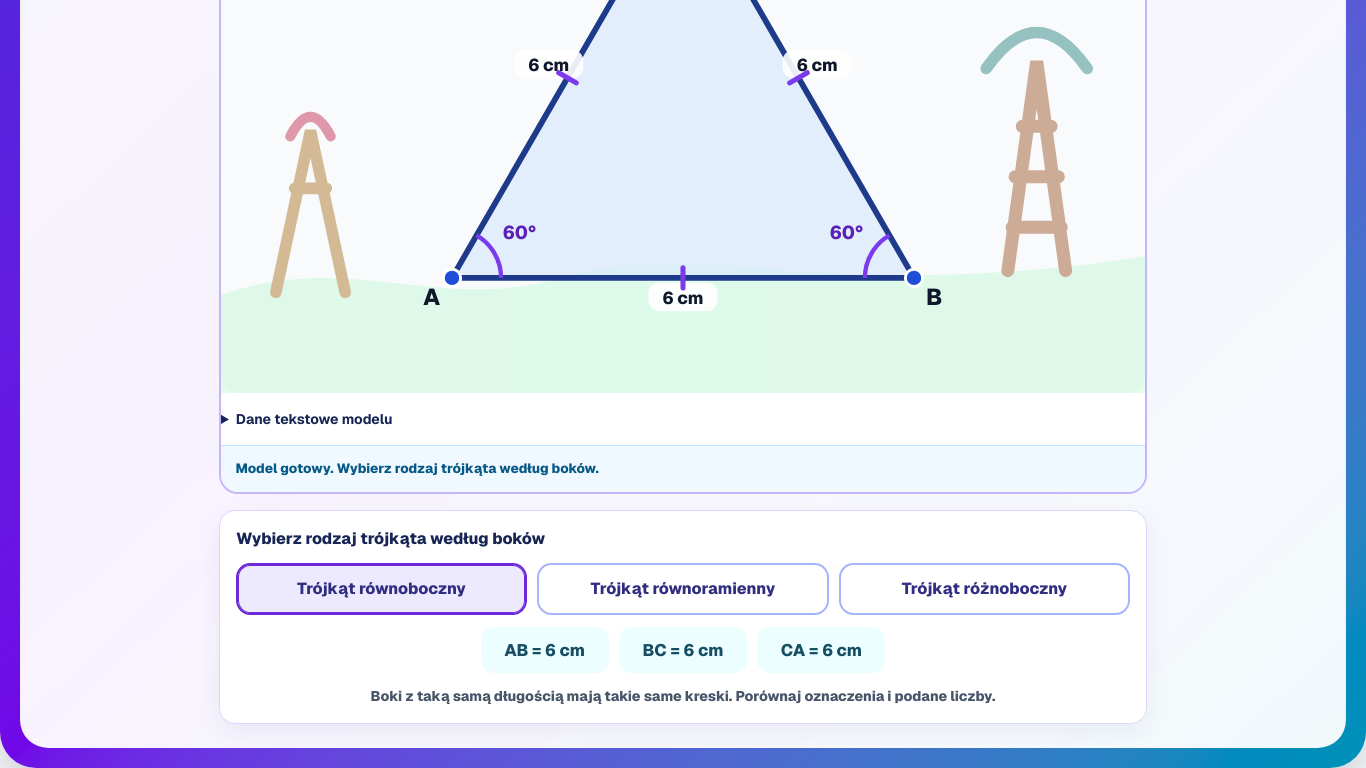
Test: WP-S4-06 — klasyfikacja trójkątów › opisuje rodzaje według długości boków bez odwołania do kresek
(page scrolled)
Click the button "Trójkąt równoboczny". click: coordinates (382, 589)
box: [236, 563, 527, 615]
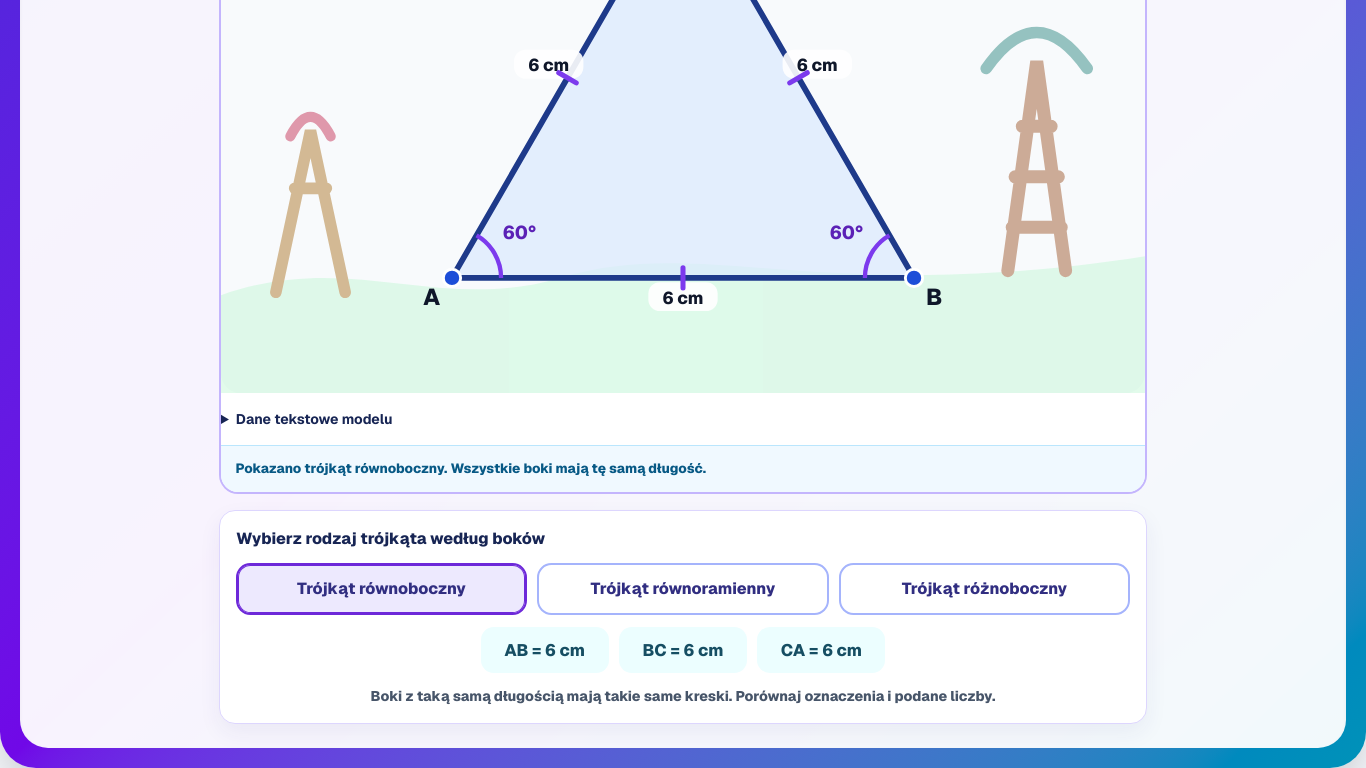
Expected: the message shows "Wszystkie boki mają tę samą długość.", [235, 459, 706, 477]
Click the button "Trójkąt równoramienny". click: coordinates (683, 589)
box: [538, 563, 829, 615]
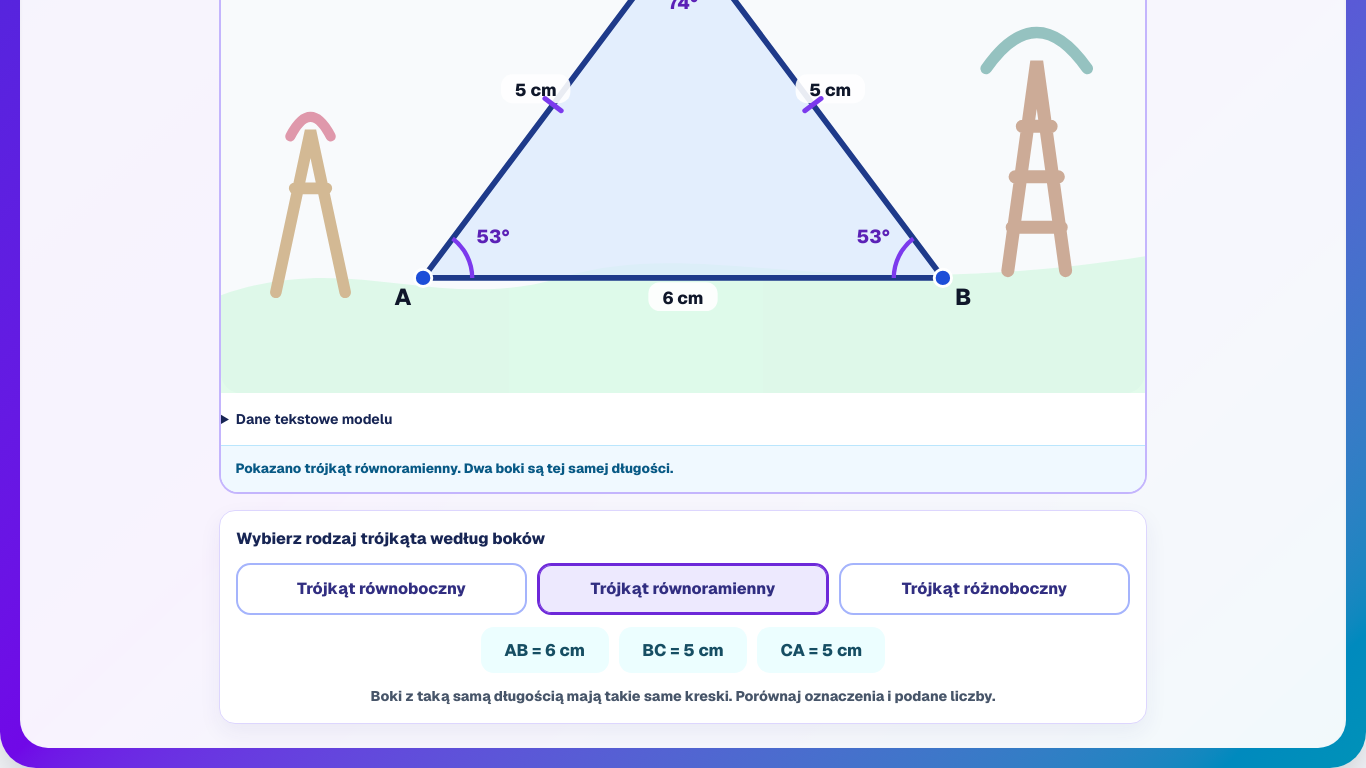
Expected: the message shows "Dwa boki są tej samej długości.", [235, 459, 673, 477]
Click the button "Trójkąt różnoboczny". click: coordinates (984, 589)
box: [839, 563, 1130, 615]
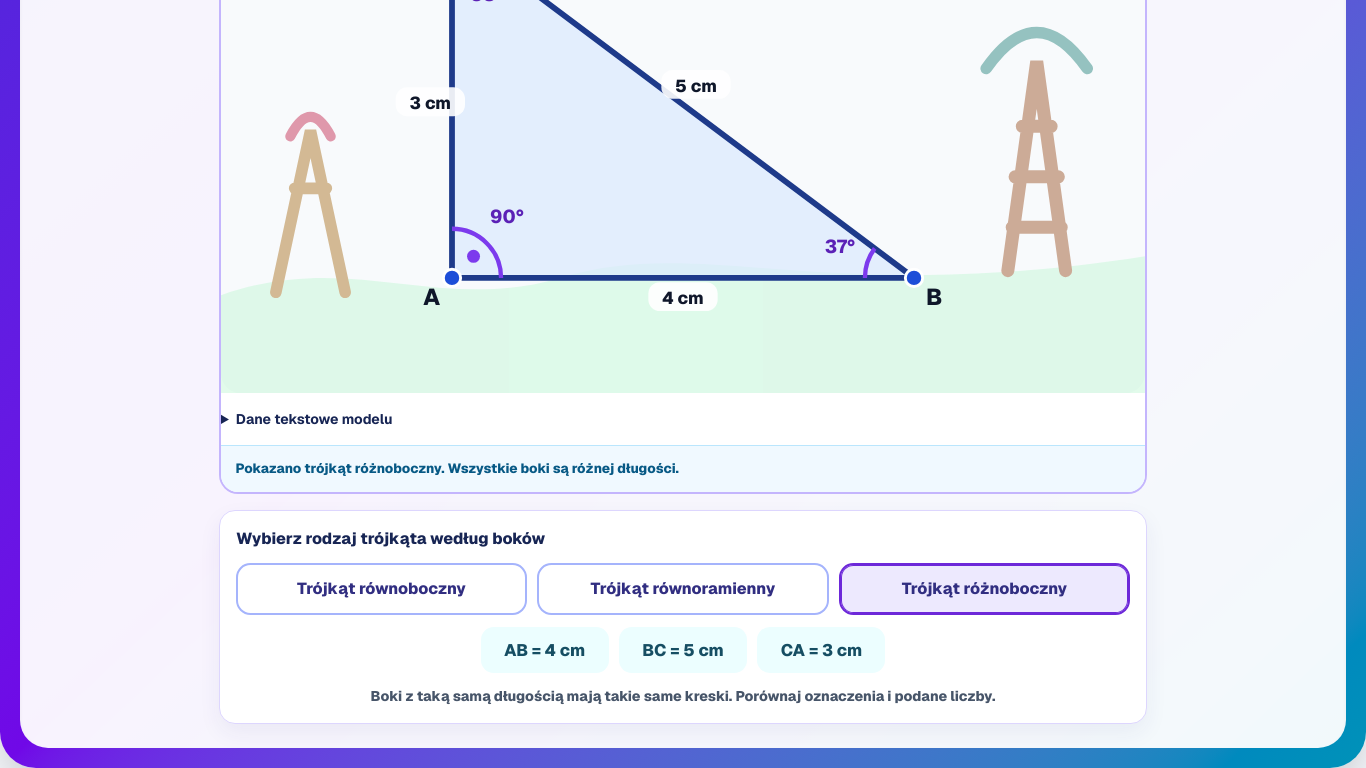
Expected: the message does not show "kreski na bokach", [221, 445, 1145, 492]
Expected: the message shows "Wszystkie boki są różnej długości.", [235, 459, 679, 477]
